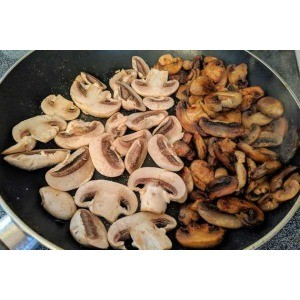milk_brain food: (195, 93, 258, 214)
mushroom_brain food: (54, 109, 152, 210)
